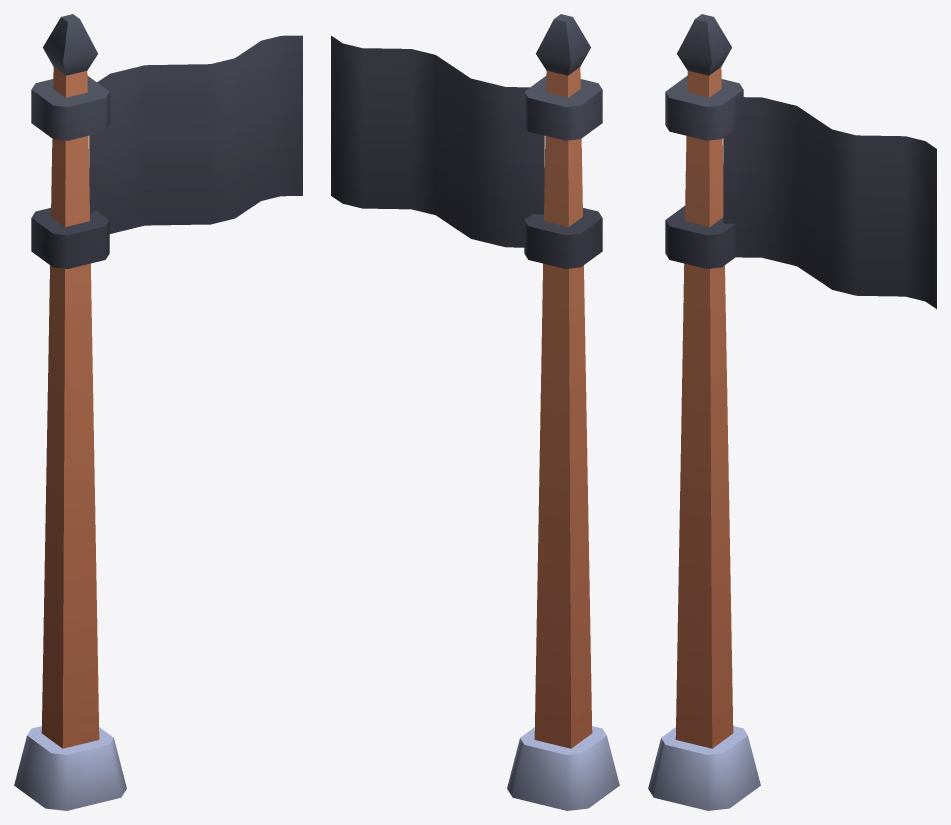
The model's file is kenney-pirate-flag-pirate-high.glb.
The picture shows the model from 3 angles, left to right: view 1: azimuth 30°, elevation 25°; view 2: azimuth 150°, elevation 25°; view 3: azimuth 330°, elevation 25°; orthographic projection.
Visible parts, largest first — view 1: flag-pirate-high; view 2: flag-pirate-high; view 3: flag-pirate-high.
Boxes of the visible parts, x1=… form: flag-pirate-high: x1=14, y1=14, x2=302, y2=810; flag-pirate-high: x1=331, y1=14, x2=619, y2=810; flag-pirate-high: x1=648, y1=14, x2=936, y2=810.
Size of the model in its own units: 1.34 by 3.6 by 0.3987.
1 material, 1 textured.
